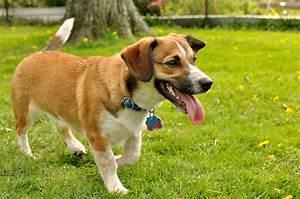dog: (10, 16, 213, 195)
